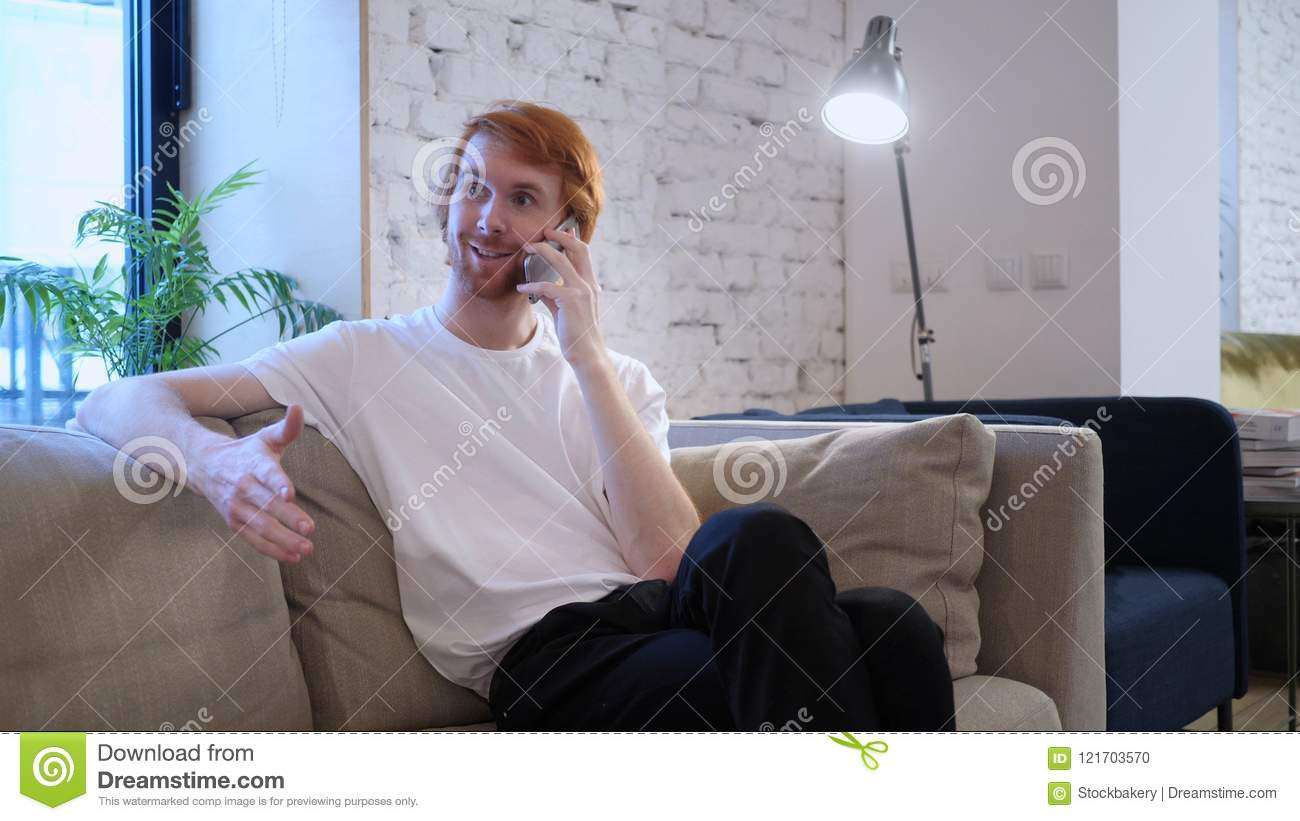phone: (523, 217, 585, 309)
talk: (448, 157, 609, 371)
